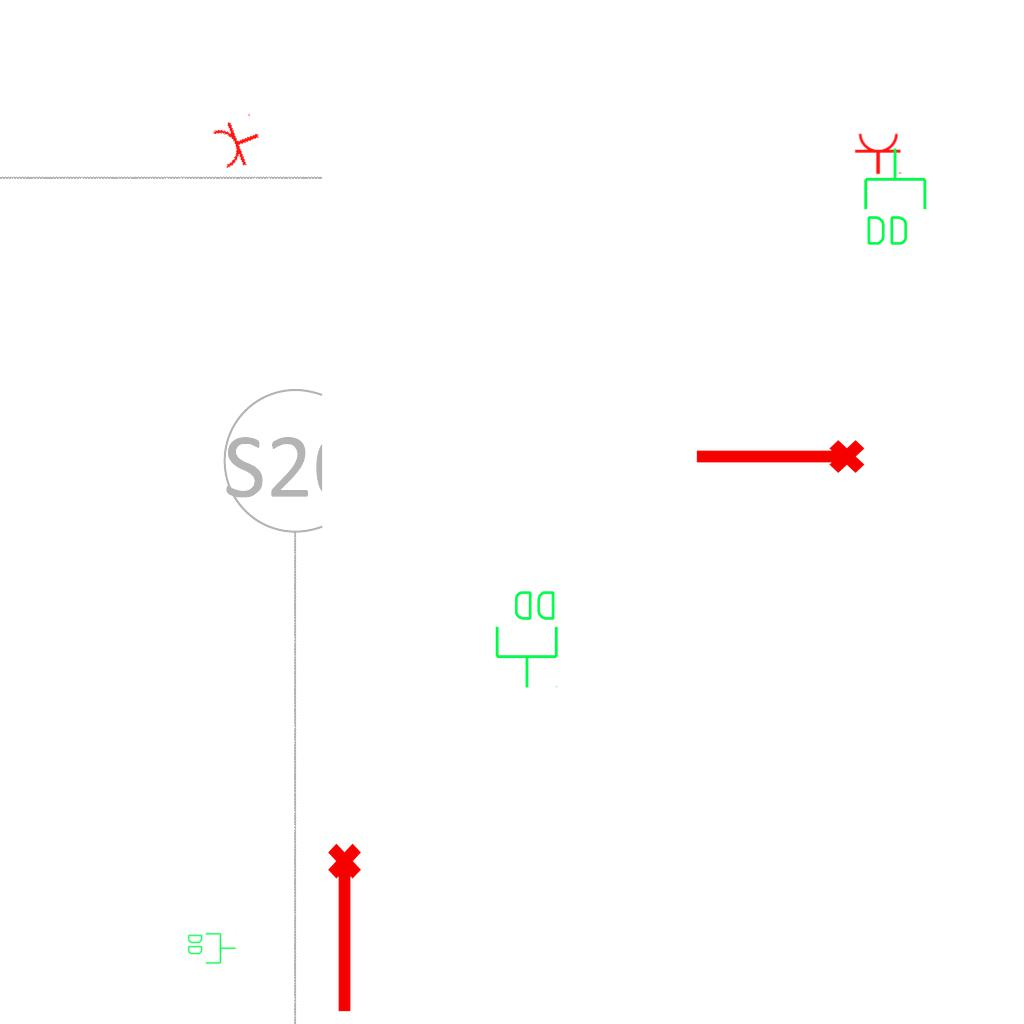ASR_Ansaugoeffnung: (324, 841, 370, 1017), (691, 436, 867, 482)
Datenanschluss_zweifach: (493, 587, 562, 690), (860, 146, 929, 249), (186, 931, 237, 965)
Schukosteckdose_einfach: (209, 110, 268, 174), (854, 132, 904, 175)
